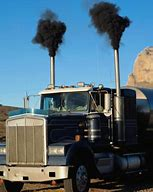smoke: (89, 1, 133, 47), (31, 9, 68, 56)
